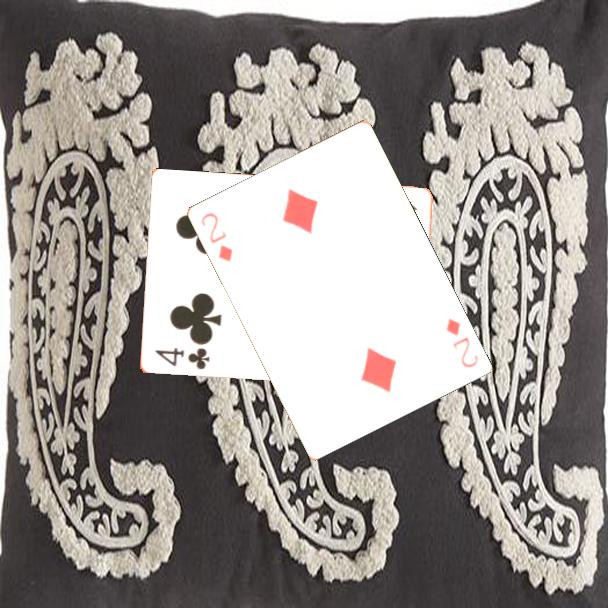c04: (151, 345, 212, 373)
d02: (442, 315, 481, 370), (197, 209, 235, 265)
